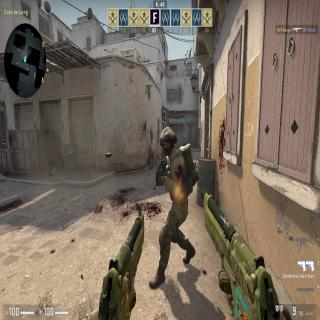T-Body: (160, 127, 188, 272)
T-Head: (160, 126, 177, 155)
